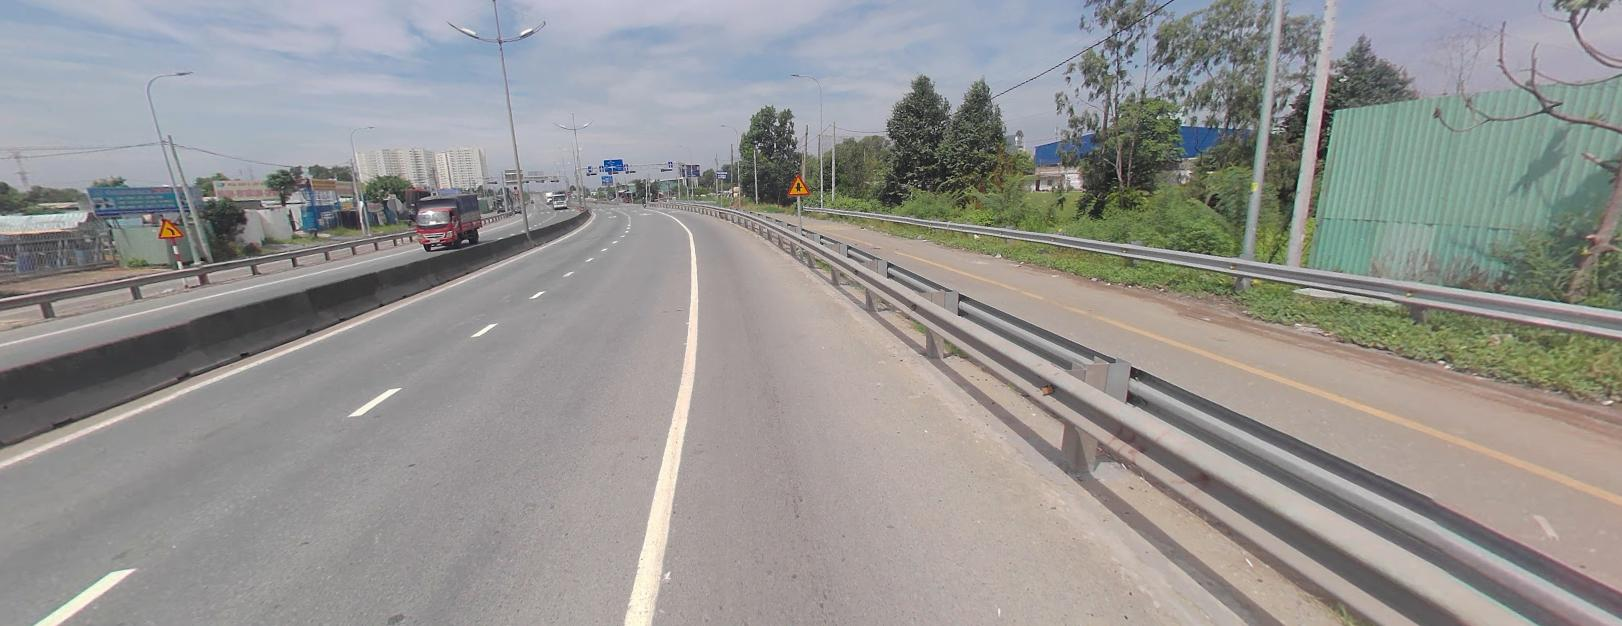Nguy hiem: (786, 172, 810, 195), (159, 217, 184, 236), (788, 173, 809, 193)
